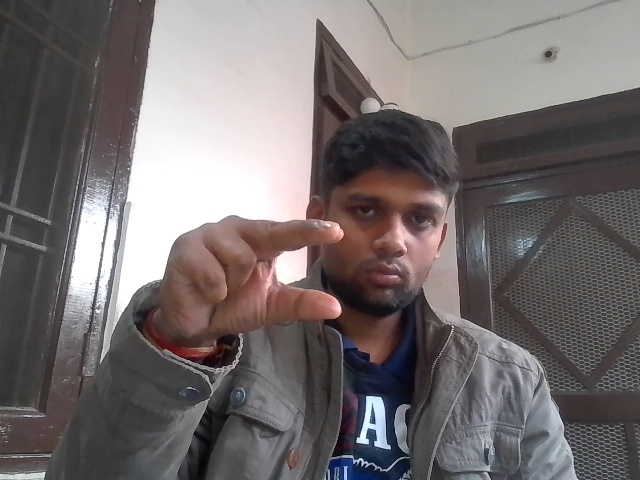No: (145, 204, 371, 350)
